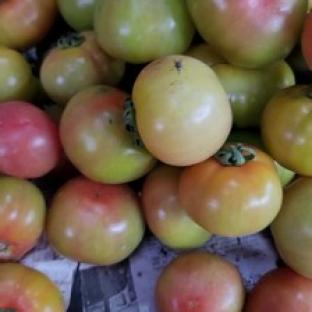Tomato: (133, 55, 232, 165), (59, 85, 157, 183), (179, 143, 282, 236), (46, 176, 144, 264), (39, 31, 125, 105), (141, 163, 211, 249), (214, 60, 295, 128), (155, 253, 245, 311), (0, 101, 62, 178), (261, 84, 311, 175), (271, 177, 311, 278), (0, 176, 45, 261), (0, 264, 65, 311), (244, 267, 311, 311), (0, 46, 37, 101), (184, 42, 227, 66), (228, 129, 266, 151), (300, 10, 311, 69)
